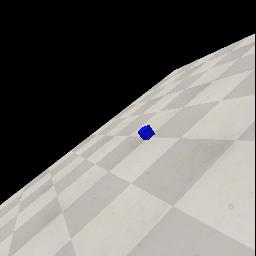box: (138, 125, 155, 140)
